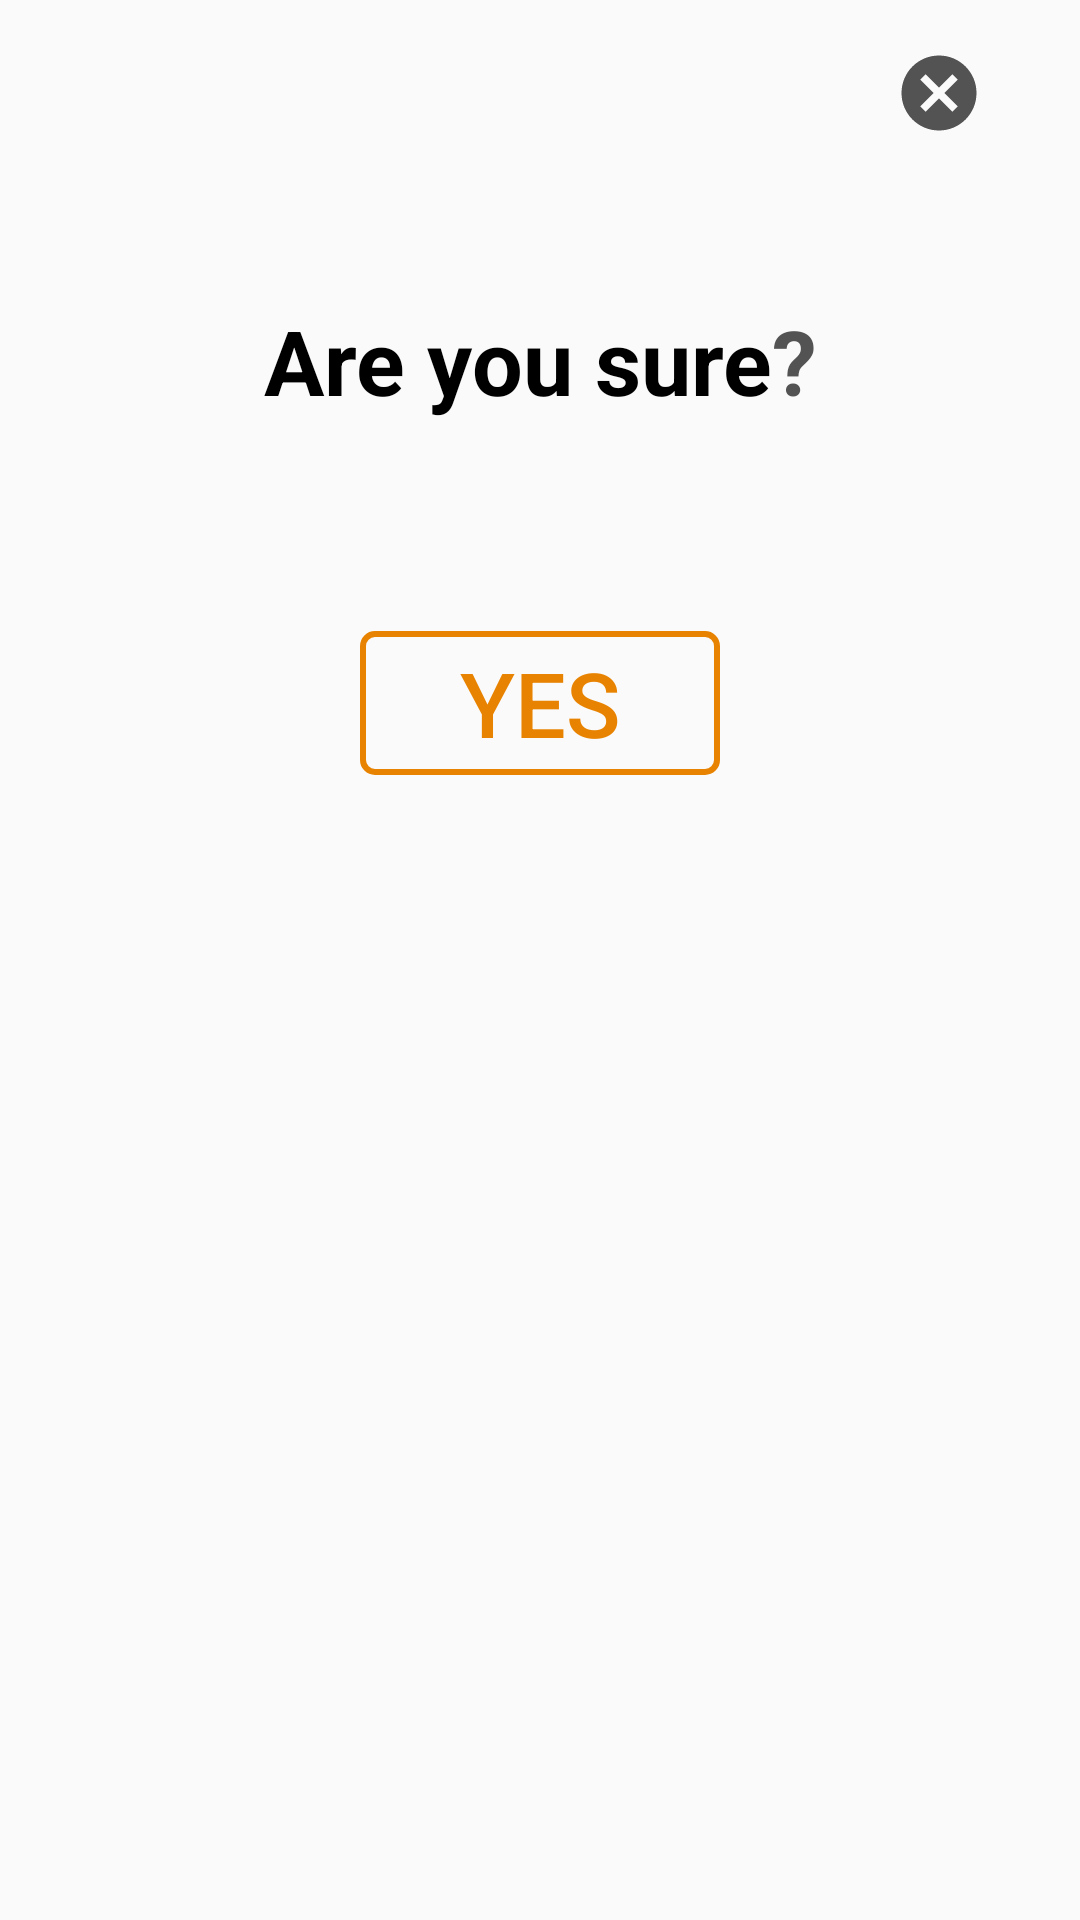

Screen size 1080x1920. Icon name, then its center in pixels as point (x, y):
cancel: point (939, 93)
